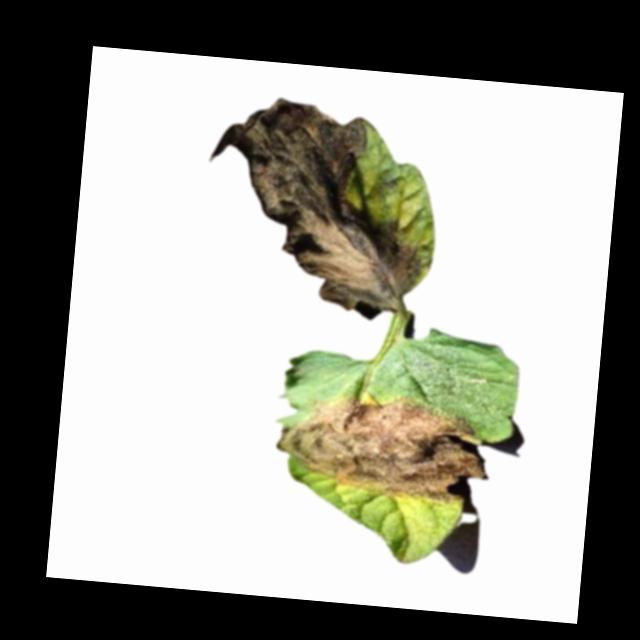Late_blight: (196, 95, 436, 323), (272, 382, 495, 508)
